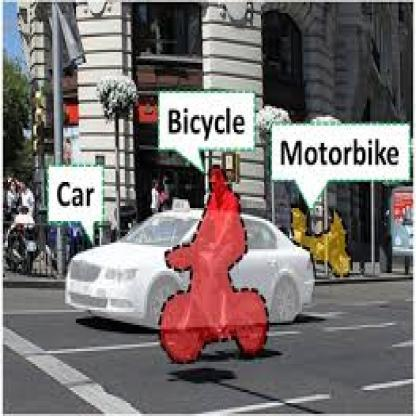car: (67, 187, 328, 348)
